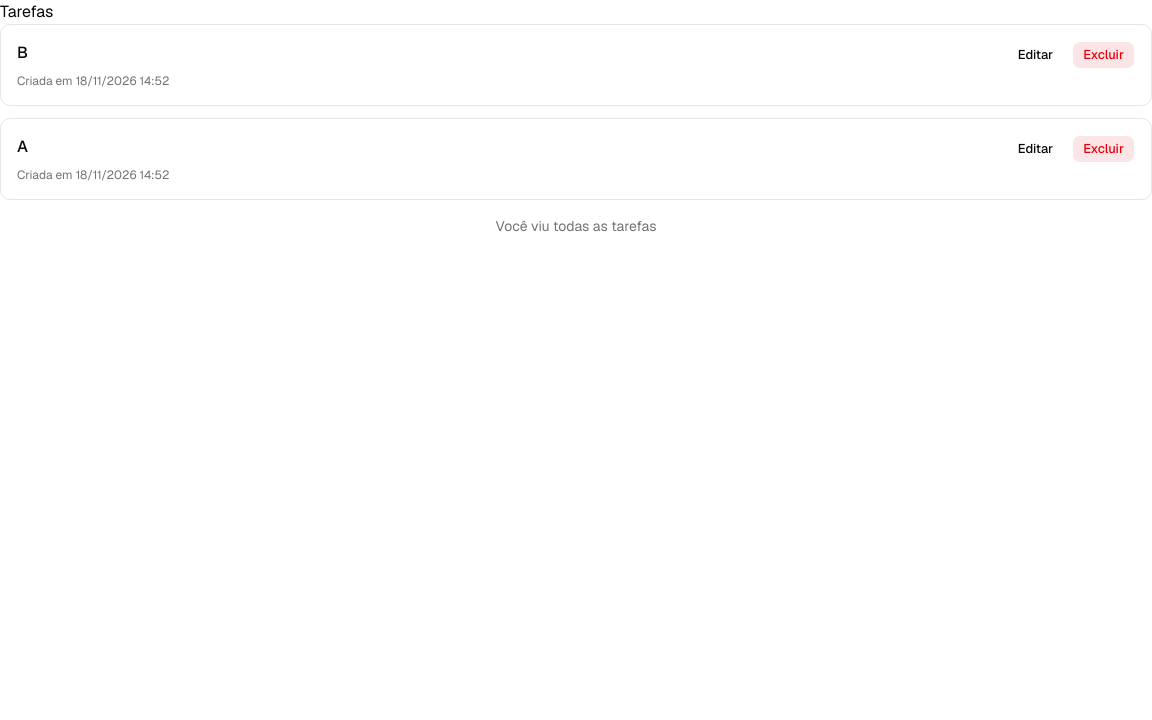
Test: fluxo de exclusão › já excluída por outro: toast do servidor e a lista reconcilia
Click the button with aria-label "Excluir A": (1104, 149) [1072,135,1135,163]
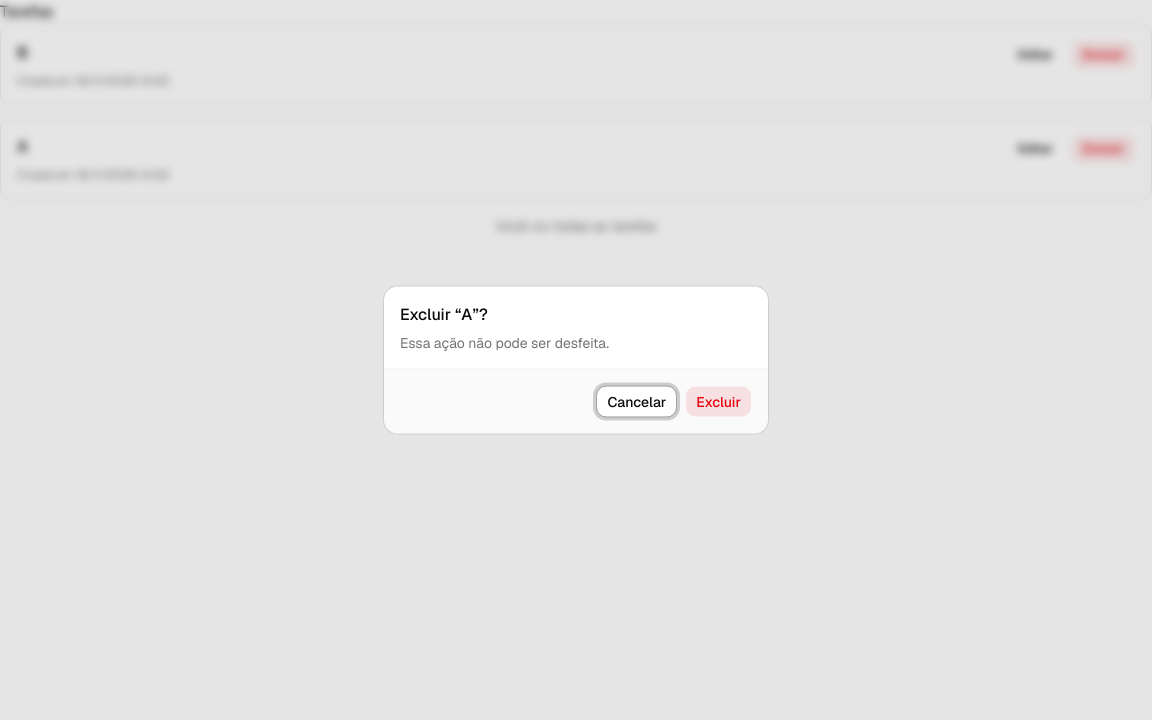
Click the button "Excluir": (719, 402) [685,386,752,418]
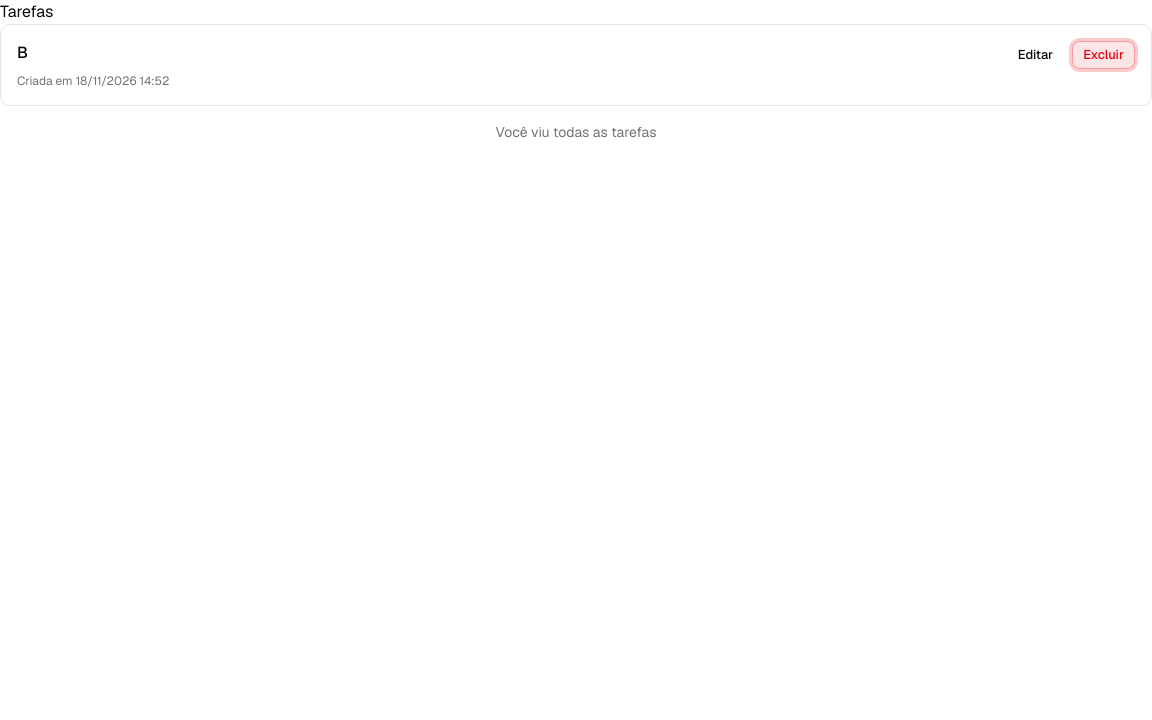
Expected: the heading "B" is shown, [17,42,28,63]
Expected: the dialog is gone
